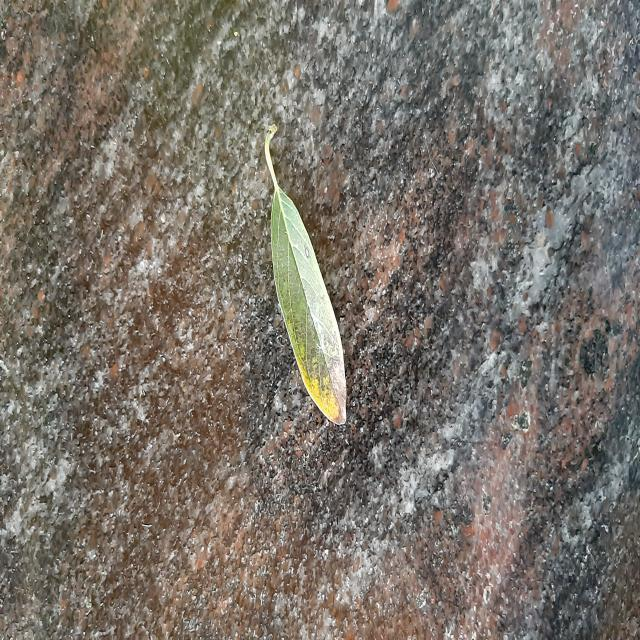leaf: (262, 123, 347, 425)
